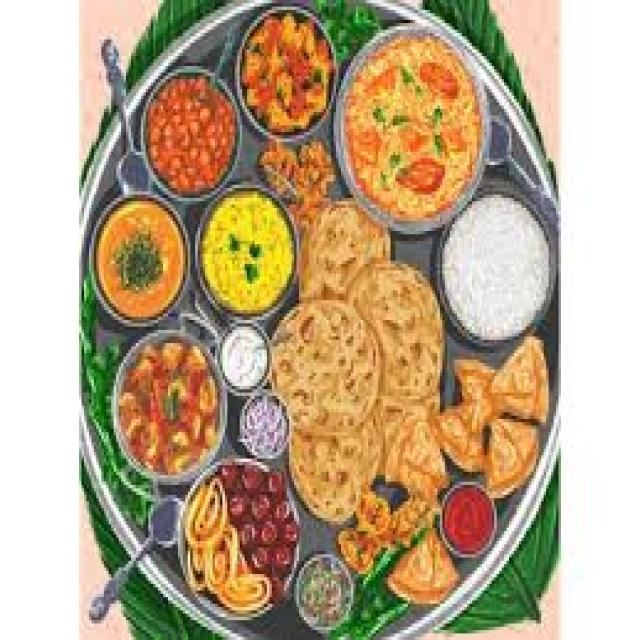curd: (435, 187, 558, 342)
dal: (199, 183, 303, 328)
papad: (277, 275, 394, 524)
rice: (331, 36, 494, 226), (437, 184, 555, 348)
roti: (278, 256, 448, 512)
veg-fry: (130, 70, 249, 206), (115, 331, 222, 480), (225, 6, 340, 140)
